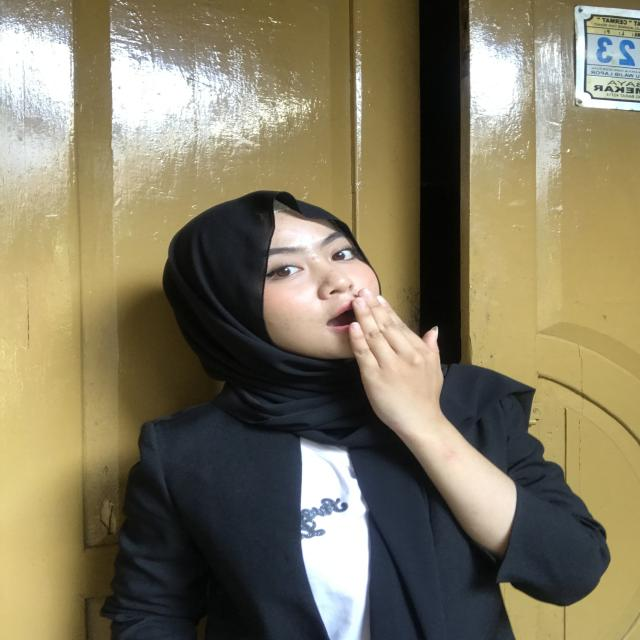ngantuk: (309, 280, 466, 439)
